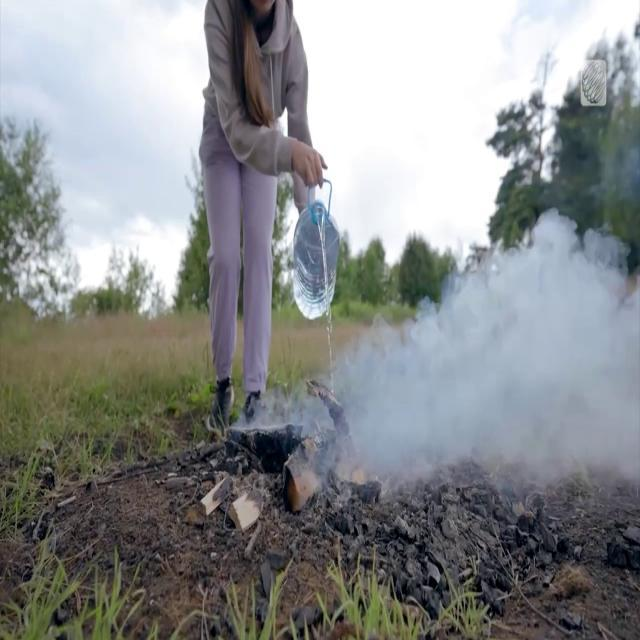Smoke: (326, 158, 640, 514)
